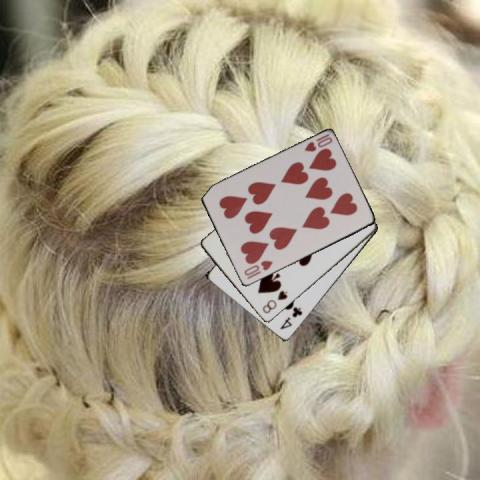10h: (241, 257, 274, 281), (302, 131, 334, 153)
4c: (278, 304, 304, 331)
8s: (259, 288, 289, 315)
